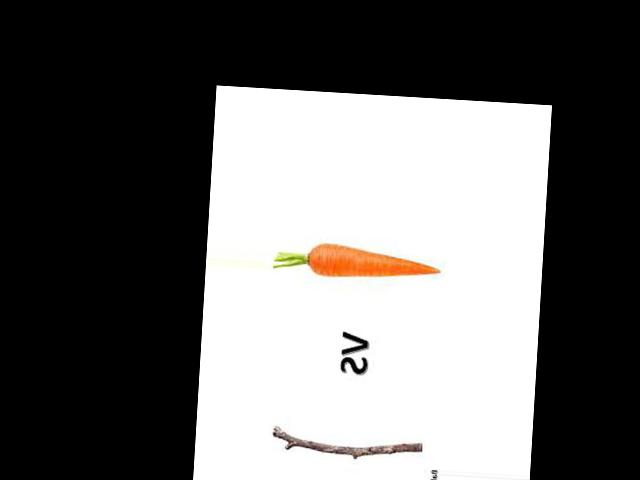carrot: (303, 236, 445, 292)
